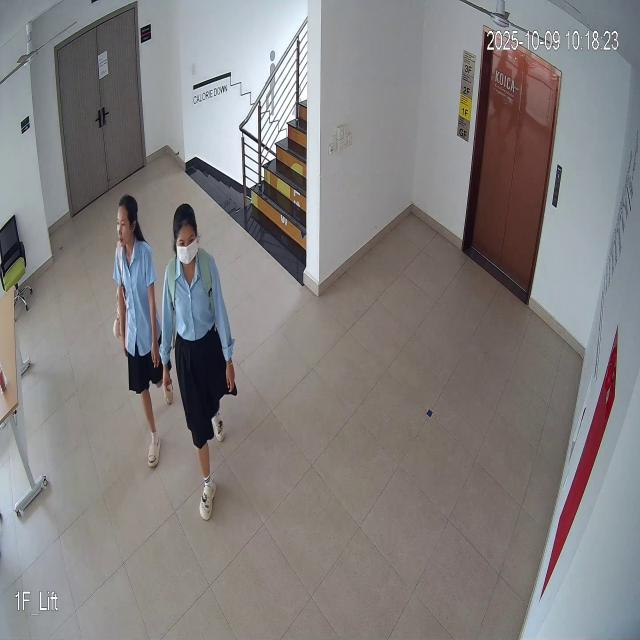face: (108, 191, 142, 248)
